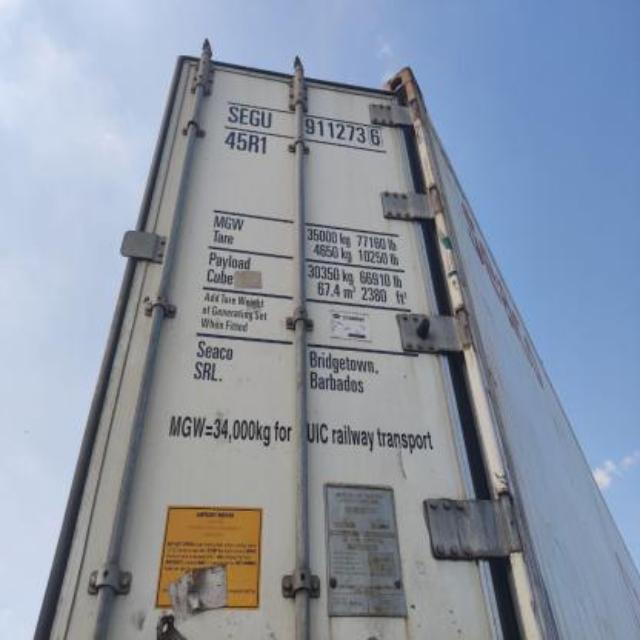1: (326, 115, 334, 142), (318, 115, 326, 141)
2: (335, 113, 345, 145)
3: (356, 118, 368, 146)
6: (368, 124, 382, 148)
7: (344, 118, 354, 144)
9: (306, 112, 314, 138)
E: (238, 100, 248, 130)
G: (249, 103, 261, 133)
S: (227, 99, 240, 125)
U: (262, 101, 274, 131)
